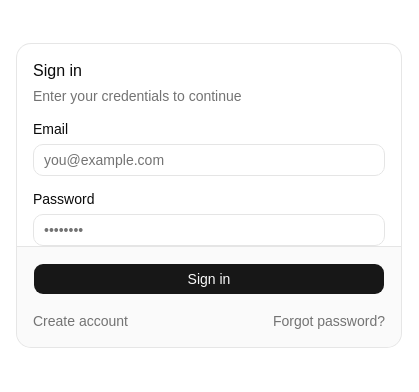
Test case: LoginPage › shows unexpected error on exception
Step 1. Type "a@b.com" into the field labelled "Email" → (209, 160), box [33,144,385,176]
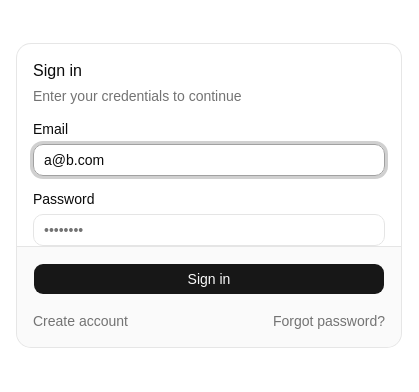
Step 2. Type "Testpass1" into the password field labelled "Password" → (209, 230), box [33,214,385,246]
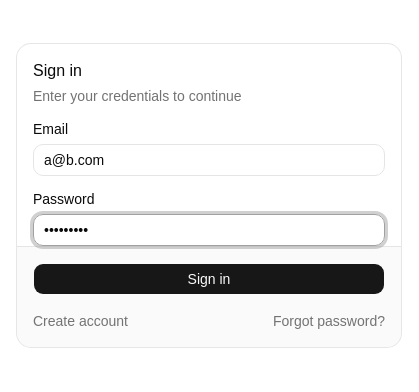
Step 3. Click the button "Sign in" → (209, 278), box [33,262,385,294]
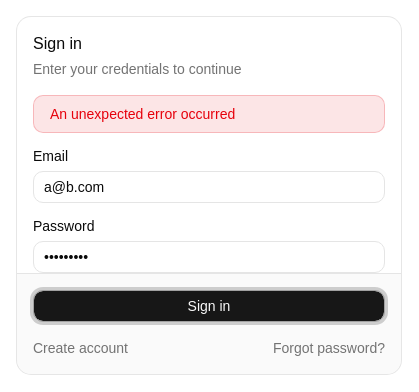
Check: the text "An unexpected error occurred" is shown, box [33,94,385,132]
